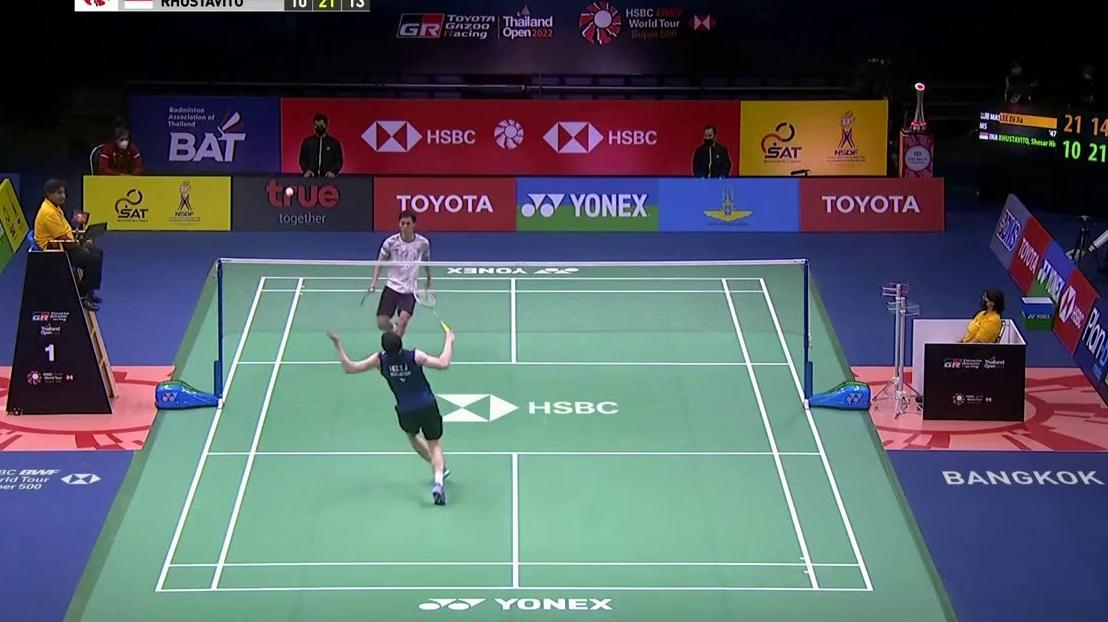racket: (413, 285, 453, 334), (360, 287, 375, 306)
shuttle: (286, 187, 294, 196)
